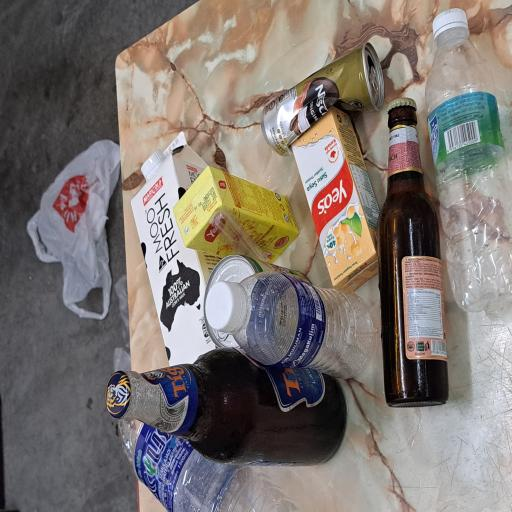can: (267, 348, 352, 512), (123, 272, 193, 418)
drink carton: (108, 174, 286, 295), (162, 390, 304, 507), (185, 230, 259, 400)
glass bottle: (34, 140, 124, 464)
plastic bag: (144, 35, 280, 163)
plastic bottle: (0, 157, 71, 402), (98, 310, 181, 508)
plastic bottle cap: (136, 274, 174, 329), (252, 188, 272, 220)
pop tab: (312, 495, 334, 505)
